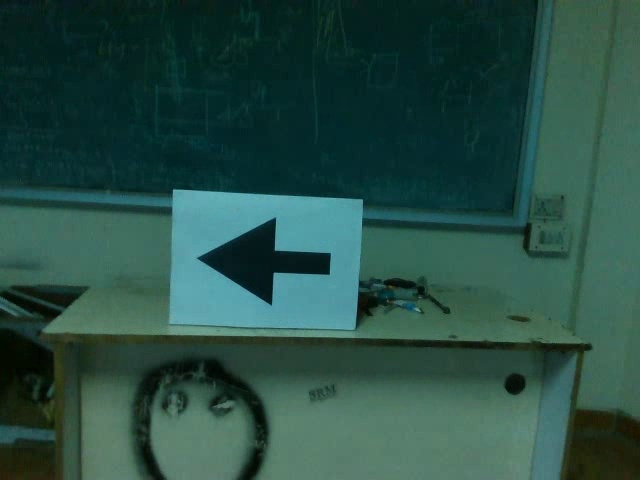Left: (190, 213, 338, 311)
